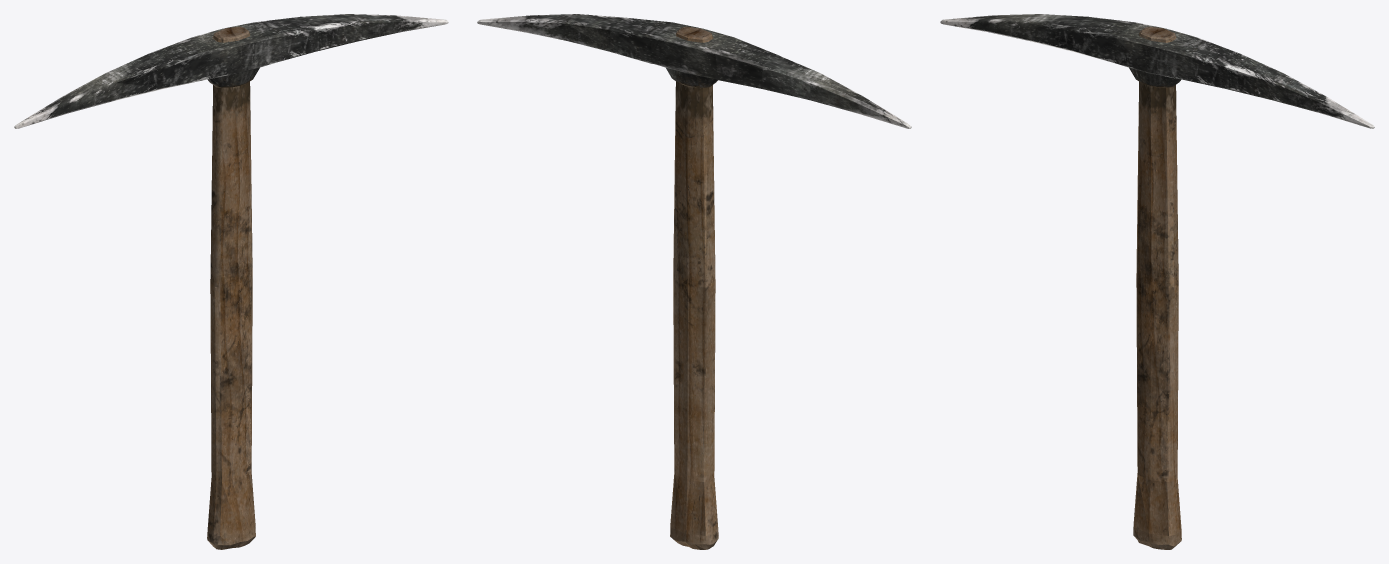
File: picareta.glb
3 views of the same model, side by side, from view 1: azimuth 30°, elevation 25°; view 2: azimuth 150°, elevation 25°; view 3: azimuth 330°, elevation 25° (orthographic).
Visible parts, largest first — view 1: picareta; view 2: picareta; view 3: picareta.
Boxes of the visible parts, x1=… form: picareta: x1=14, y1=14, x2=448, y2=549; picareta: x1=477, y1=14, x2=911, y2=549; picareta: x1=940, y1=14, x2=1374, y2=549.
Size of the model in its own units: 0.7524 by 0.85 by 0.0639.
Materials: 1 (1 with a texture image).
